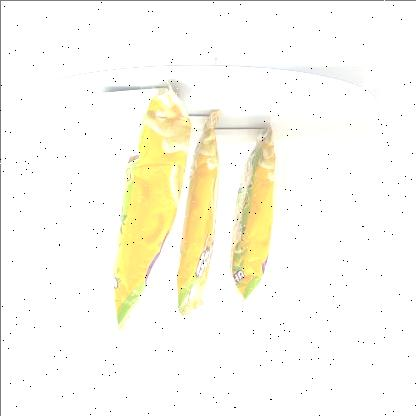Others: (96, 78, 286, 338)
